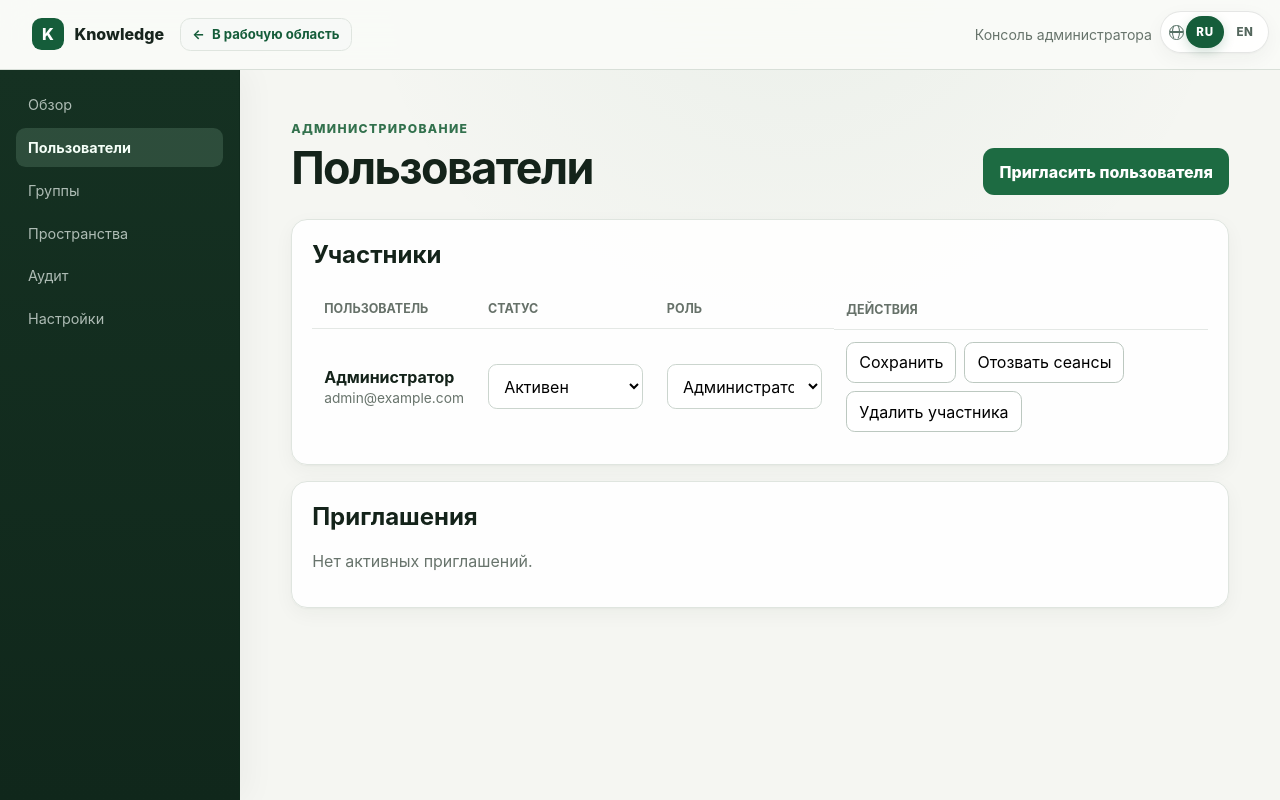
Test: users and invitations administration › refreshes the session after self-demotion and leaves the admin console
Select "Участник" in the 2nd dropdown at (745, 387), box [667,364,822,409]
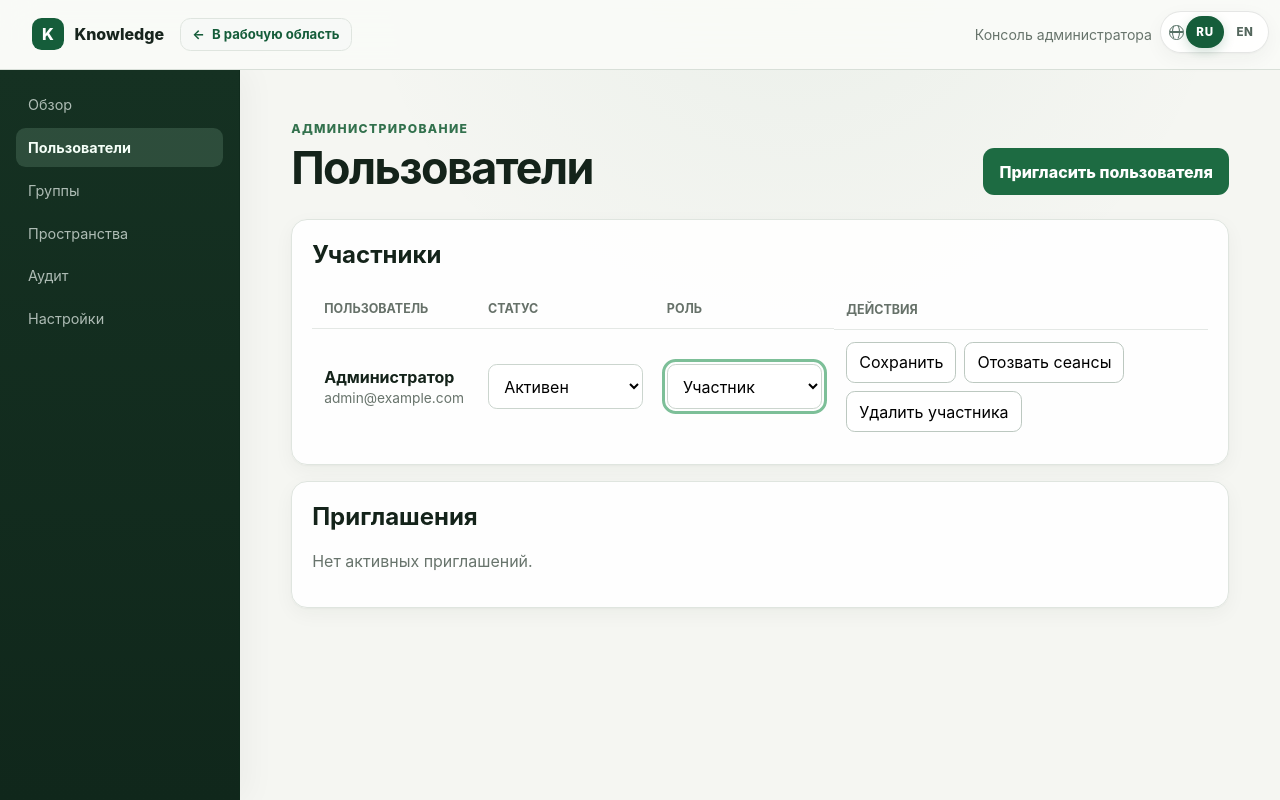
Click the button "Сохранить".
click(901, 362)  # box [846,342,956,383]
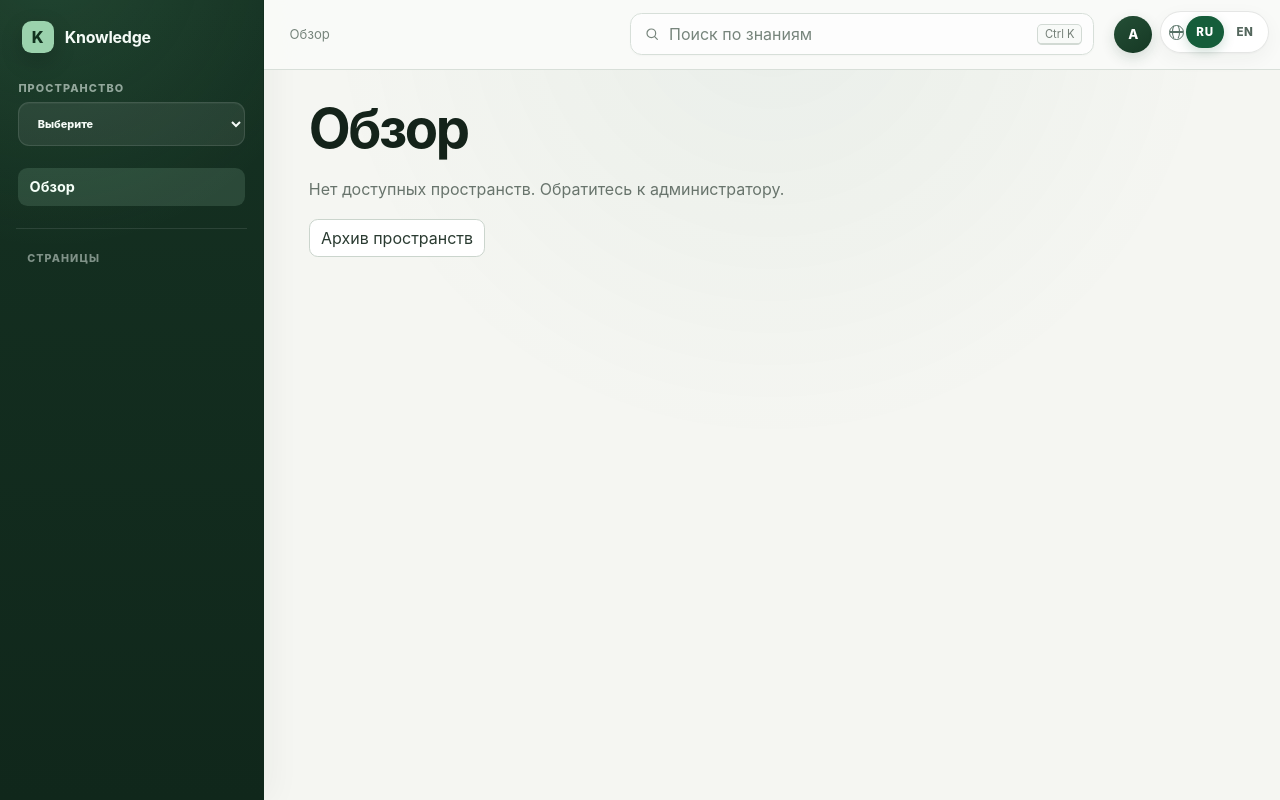
Result: the text "Нет доступных пространств. Обратитесь к администратору." is shown at [309,179,784,199]
